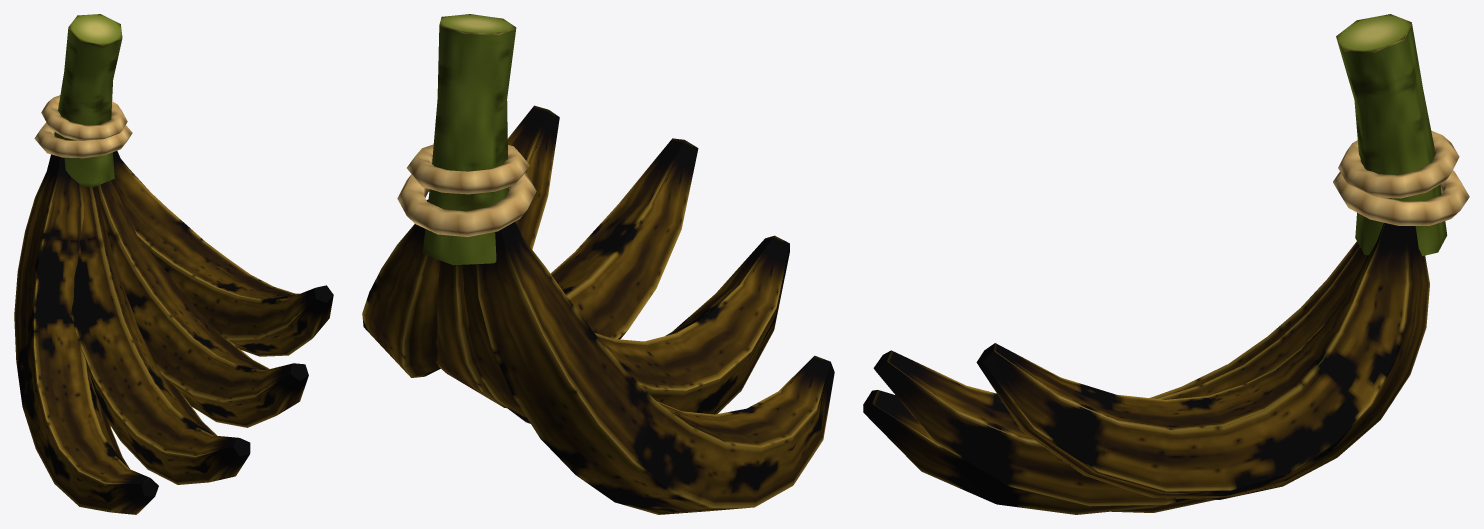
Rendered from plantain_bananas.gltf.
3 renders of one model, left to right at view 1: azimuth 30°, elevation 25°; view 2: azimuth 150°, elevation 25°; view 3: azimuth 270°, elevation 25°, orthographic. The views are drawn at different scales.
Visible parts, largest first — view 1: PlantainBananas; view 2: PlantainBananas; view 3: PlantainBananas.
Boxes of the visible parts, x1,y1,x2,y2 form: PlantainBananas: [14, 14, 333, 514]; PlantainBananas: [362, 14, 834, 514]; PlantainBananas: [863, 14, 1469, 514].
Size of the model in its own units: 7.76 by 12.09 by 12.21.
Materials: 1 (1 with a texture image).
